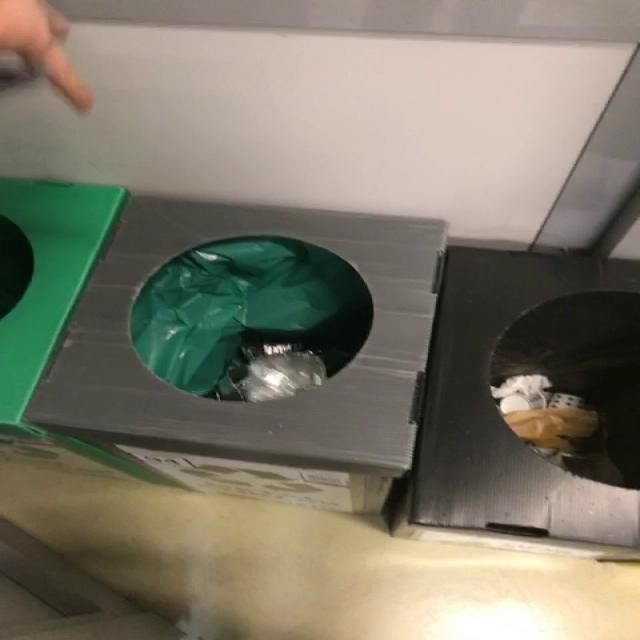bin: (28, 198, 640, 546)
metal: (237, 345, 325, 402)
